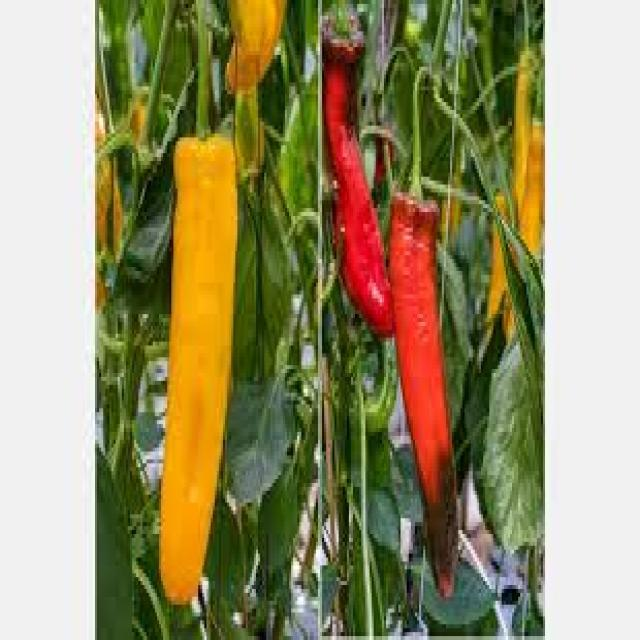Pepper: (160, 45, 237, 608), (388, 69, 458, 605), (322, 0, 394, 338)
